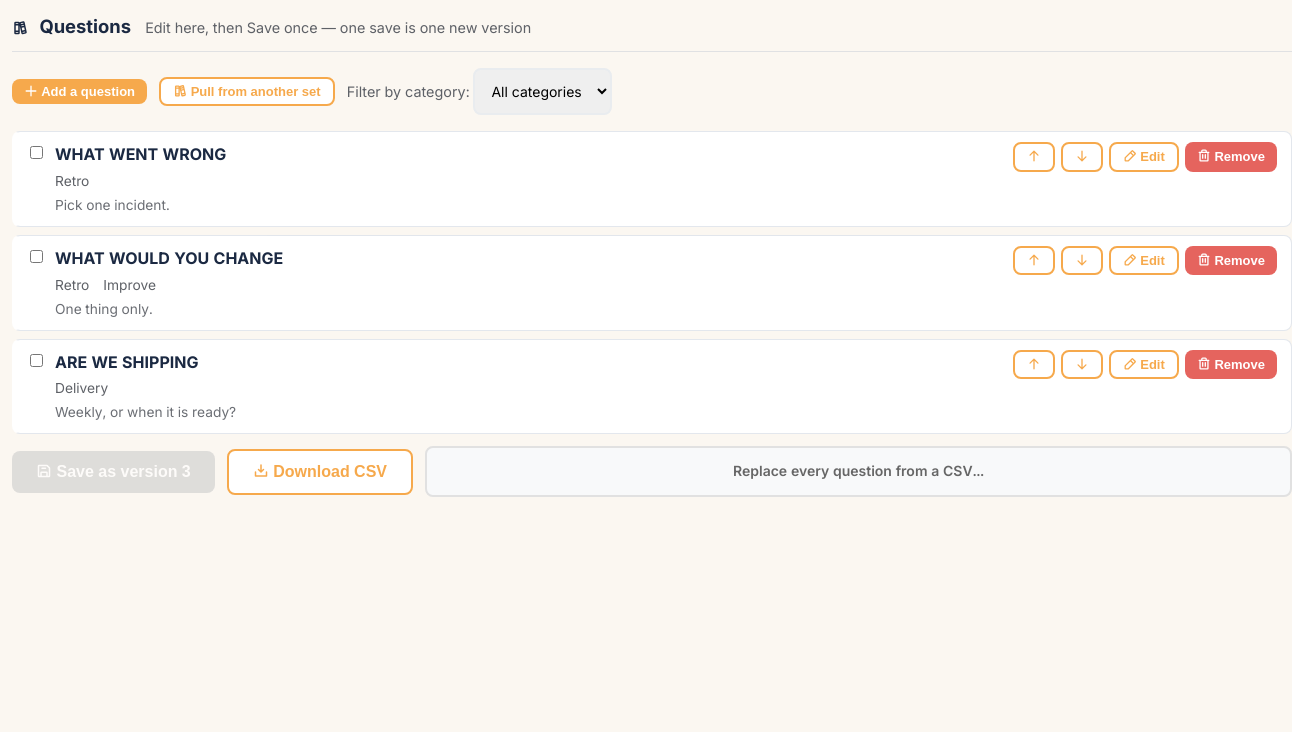
Test: the working copy › keeps a removed question on screen, and puts it back
Expected: the text "WHAT WENT WRONG" is shown, [55,142,226,168]
Click the button "Remove" in the row of "ARE WE SHIPPING": {"x": 1231, "y": 364} [1185,350,1277,379]
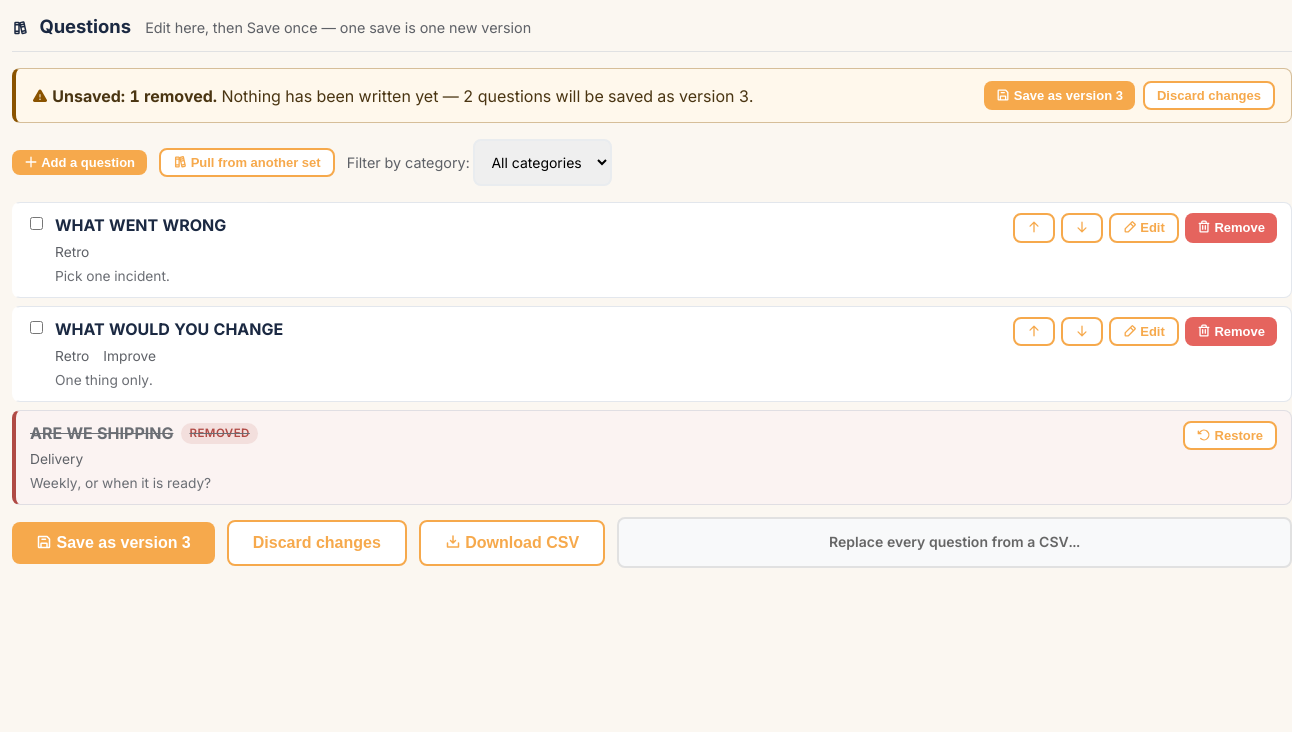
Expected: the text "ARE WE SHIPPING" is shown, [30,421,173,446]
Now the list item "ARE WE SHIPPING" has class "removed", box [12,410,1291,505]
Click the button "Restore": {"x": 1230, "y": 435} [1183,421,1277,450]
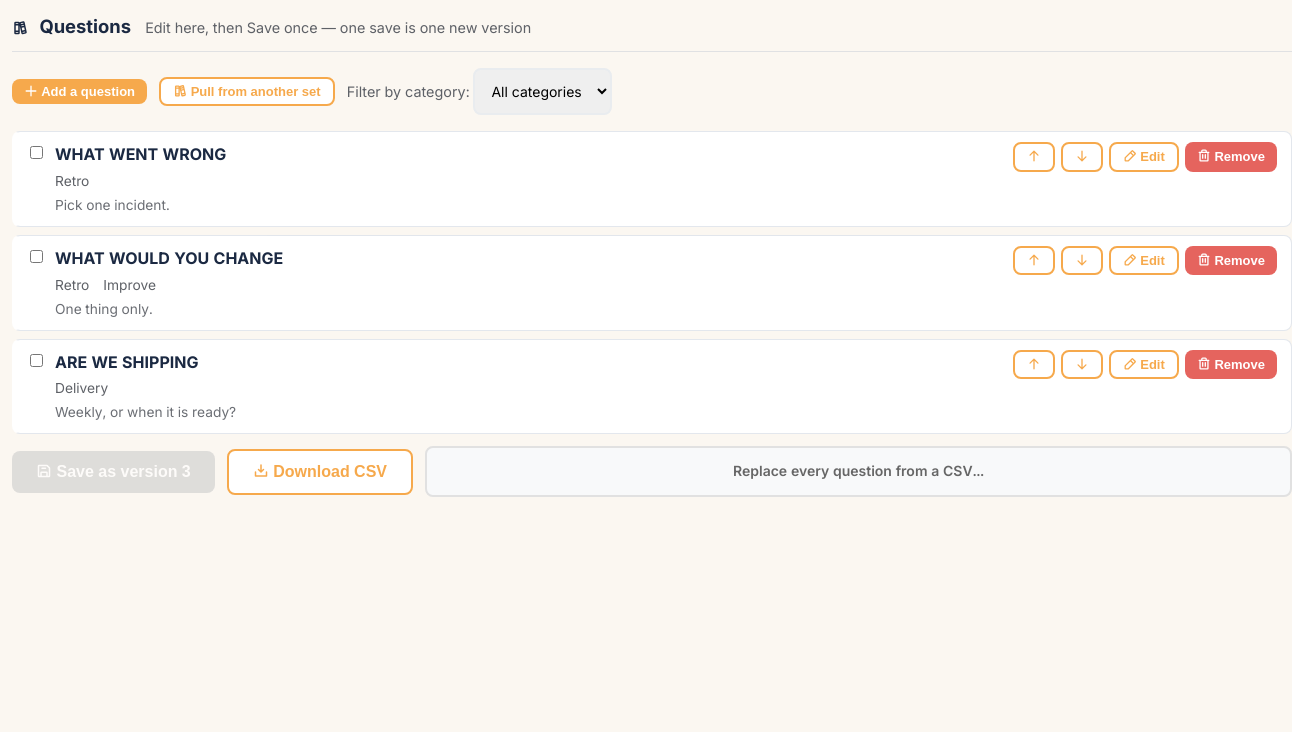
Now the button "Save as version 3" is disabled, box [12,450,215,492]
